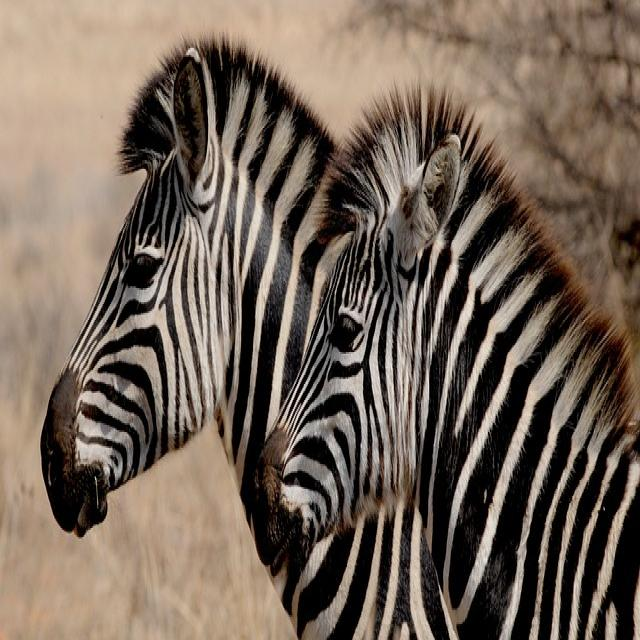Herbivorous: (243, 96, 640, 640), (42, 58, 329, 546)
